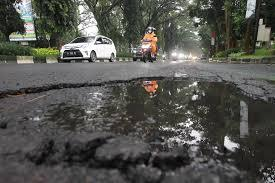Pothole: (0, 76, 274, 181)
